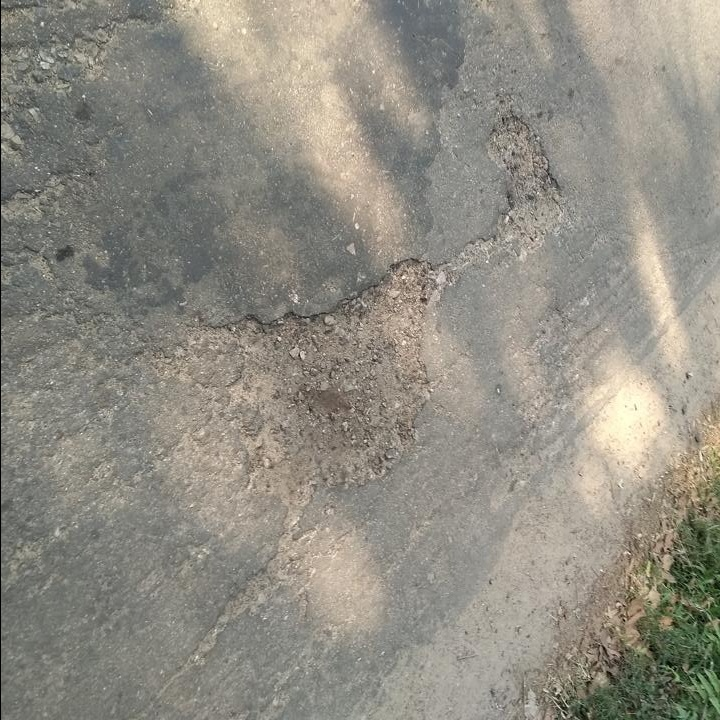pothole: (220, 253, 444, 505), (487, 109, 575, 253)
